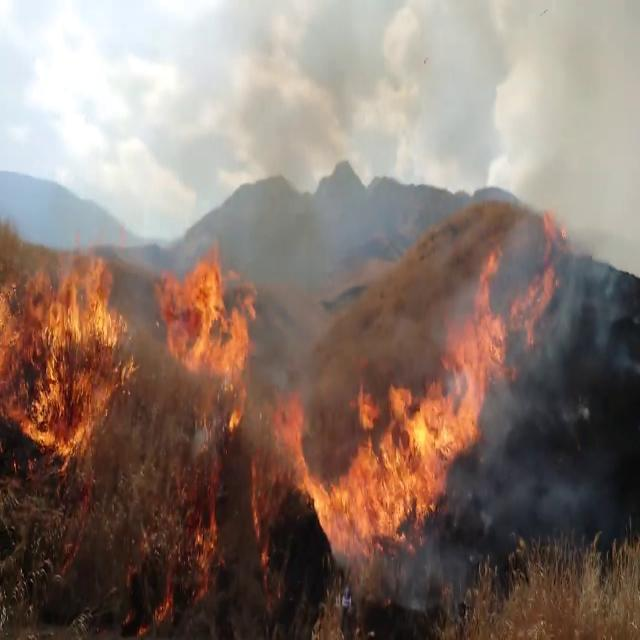Fire: (275, 346, 525, 564), (0, 229, 134, 461), (152, 232, 261, 398)
Smoke: (470, 204, 640, 566)
